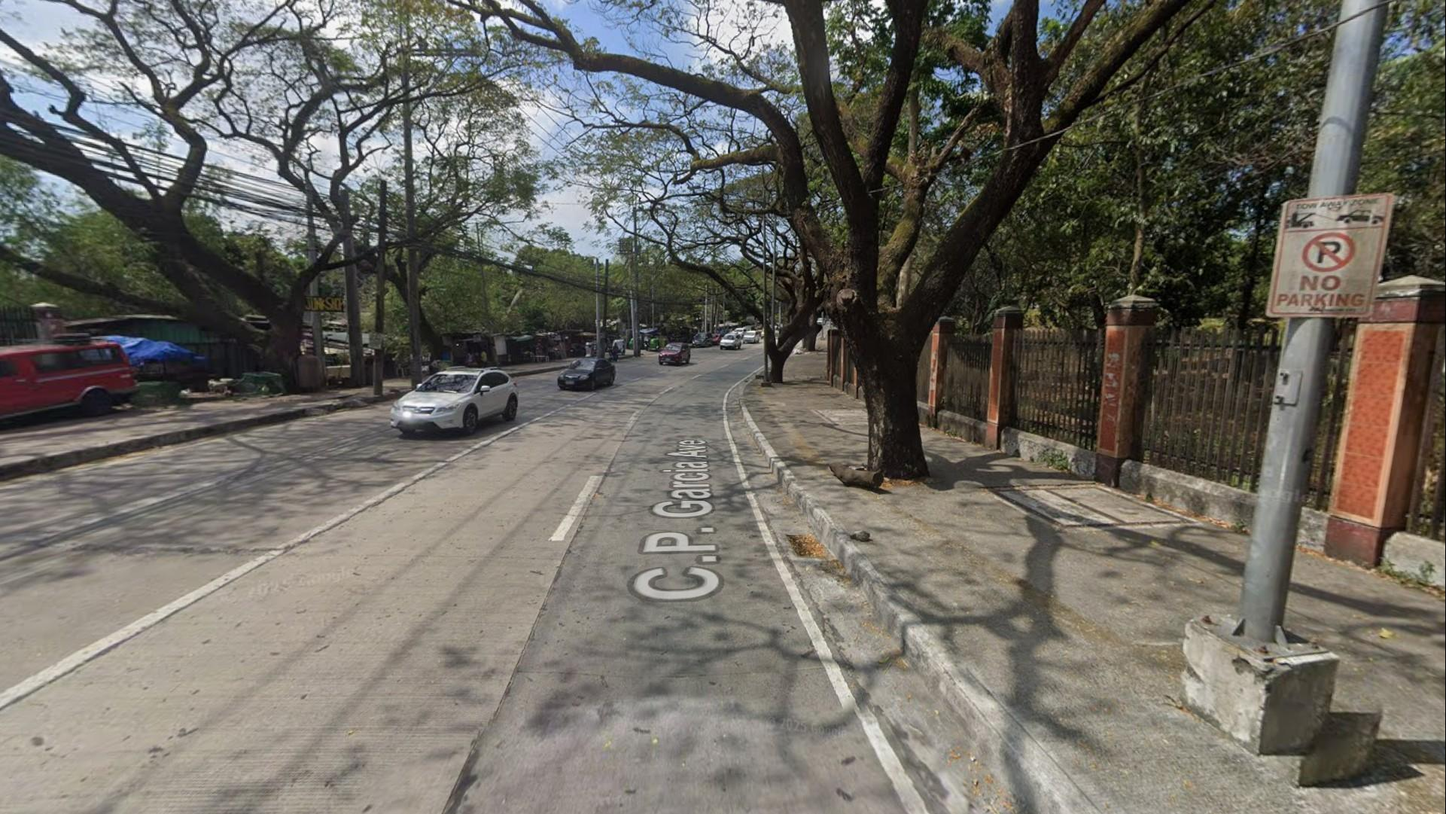pedestrian: (478, 345, 487, 367), (465, 346, 474, 367), (612, 342, 619, 363)
